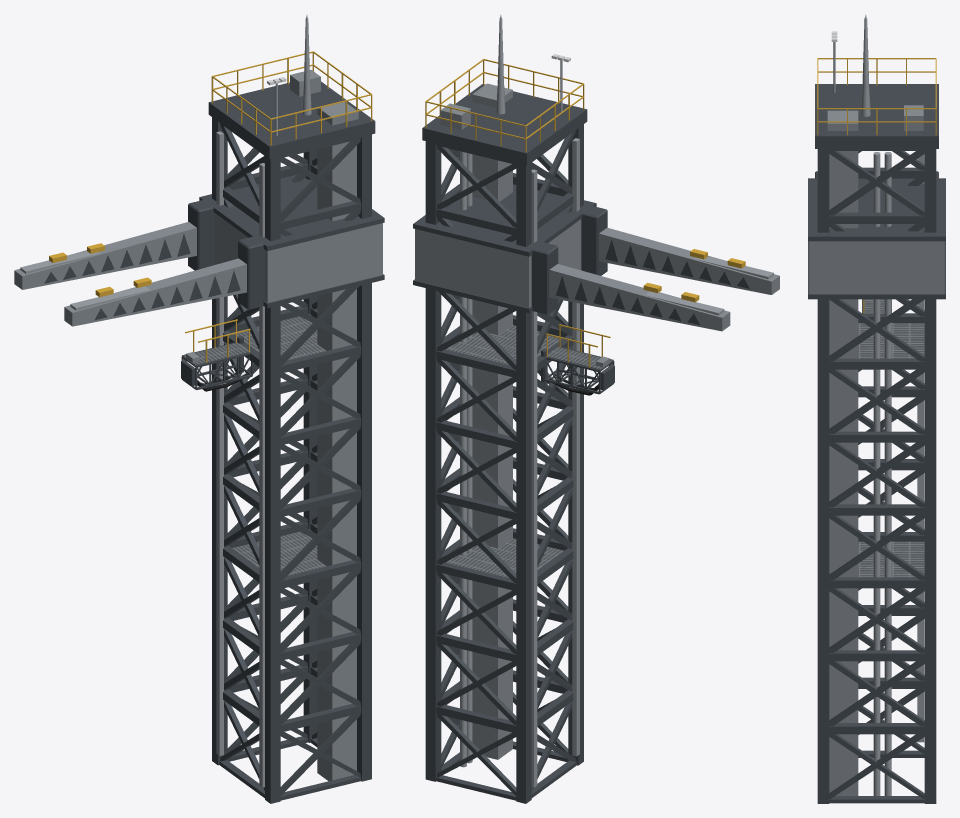
File: catch_tower.glb
3 views of the same model, side by side, from view 1: azimuth 30°, elevation 25°; view 2: azimuth 150°, elevation 25°; view 3: azimuth 270°, elevation 25° (orthographic). The views are drawn at different scales.
Parts seen in each view (by area): view 1: body, pose_carriage, pose_chopstick_b, pose_chopstick_a, head, pose_arm_qd; view 2: body, pose_carriage, pose_chopstick_a, pose_chopstick_b, head, pose_arm_qd; view 3: body, pose_carriage, head, pose_arm_qd.
Boxes of the visible parts, box(x1,y1,x2,y2) form: body: box(208, 81, 375, 803); pose_carriage: box(188, 174, 384, 309); pose_chopstick_b: box(64, 258, 246, 326); pose_chopstick_a: box(14, 221, 196, 289); head: box(211, 14, 372, 145); pose_arm_qd: box(181, 319, 252, 391); body: box(422, 83, 587, 803); pose_carriage: box(413, 184, 607, 314); pose_chopstick_a: box(549, 264, 730, 331); pose_chopstick_b: box(599, 227, 779, 294); head: box(425, 14, 584, 151); pose_arm_qd: box(541, 324, 614, 395); body: box(815, 84, 938, 803); pose_carriage: box(808, 171, 945, 299); head: box(817, 14, 936, 135); pose_arm_qd: box(862, 299, 891, 314).
Bounding box in the file's own units: 12.95 × 30.5 × 4.95.
7 materials, 1 textured.
